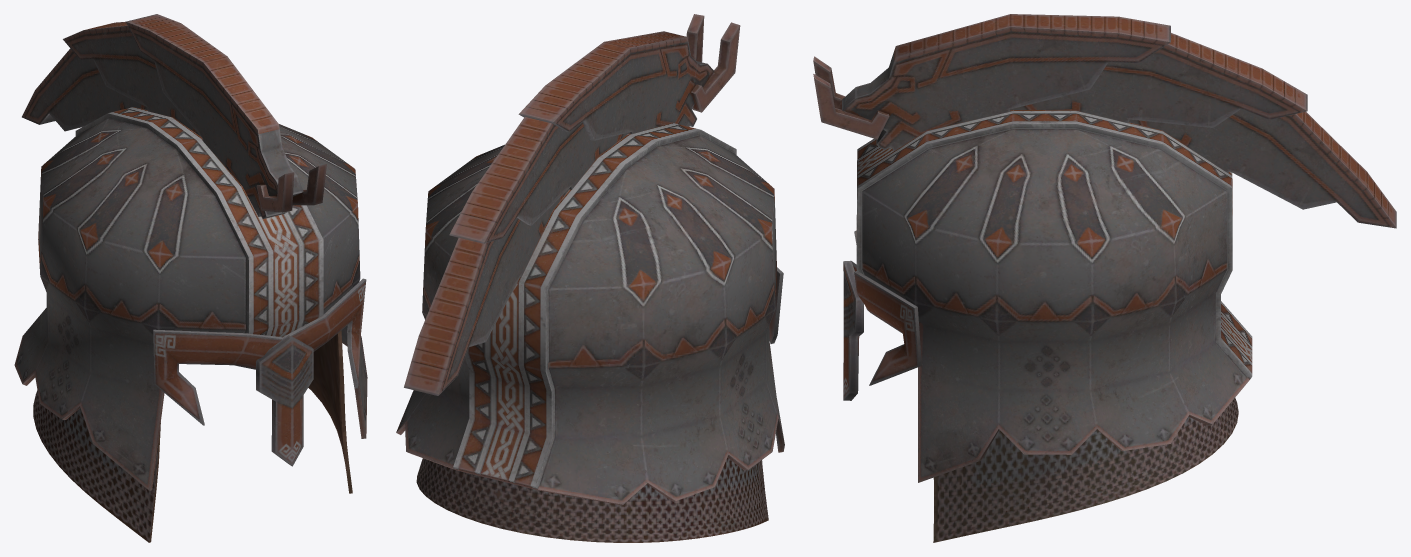
File: sk_dwarf_dain_helmet_heavy_a.fbx
The picture shows the model from 3 angles, left to right: view 1: azimuth 30°, elevation 25°; view 2: azimuth 150°, elevation 25°; view 3: azimuth 270°, elevation 25°; orthographic projection. The views are drawn at different scales.
Parts seen in each view (by area): view 1: sk_dwarf_dain_helmet_heavy_a; view 2: sk_dwarf_dain_helmet_heavy_a; view 3: sk_dwarf_dain_helmet_heavy_a.
Part boxes in pixels (x1=…): sk_dwarf_dain_helmet_heavy_a: x1=14, y1=14, x2=367, y2=542; sk_dwarf_dain_helmet_heavy_a: x1=396, y1=14, x2=784, y2=542; sk_dwarf_dain_helmet_heavy_a: x1=813, y1=14, x2=1396, y2=542.
Bounding box in the file's own units: 0.2756 × 0.4364 × 0.3871.
1 material, 1 textured.
